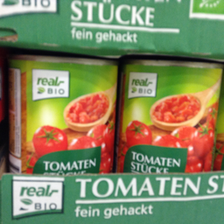tomato_sauce: (6, 53, 118, 174), (114, 59, 224, 174)
